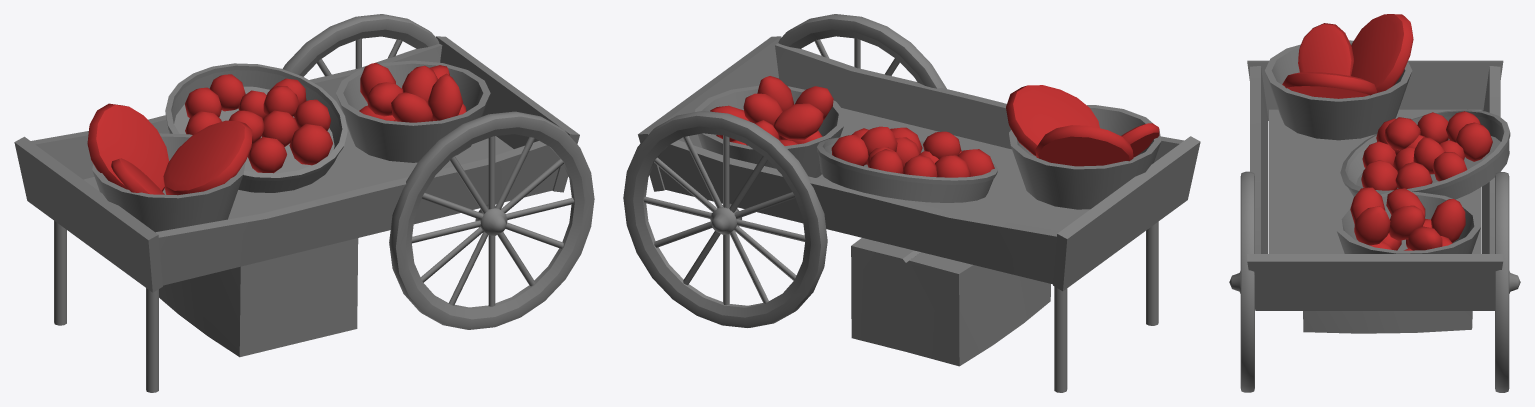
Rendered from SM_cart_wares_03.fbx.
The picture shows the model from 3 angles, left to right: view 1: azimuth 30°, elevation 25°; view 2: azimuth 150°, elevation 25°; view 3: azimuth 270°, elevation 25°; orthographic projection. The views are drawn at different scales.
Visible parts, largest first — view 1: Object32569; view 2: Object32569; view 3: Object32569.
Boxes of the visible parts, <box> form: Object32569: <box>14,14,594,392</box>; Object32569: <box>623,14,1200,392</box>; Object32569: <box>1229,14,1520,392</box>.
Bounding box in the file's own units: 80.92 × 41.21 × 48.11.
